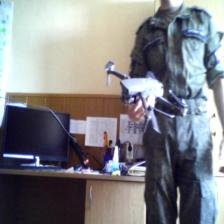drone: (102, 57, 189, 128)
